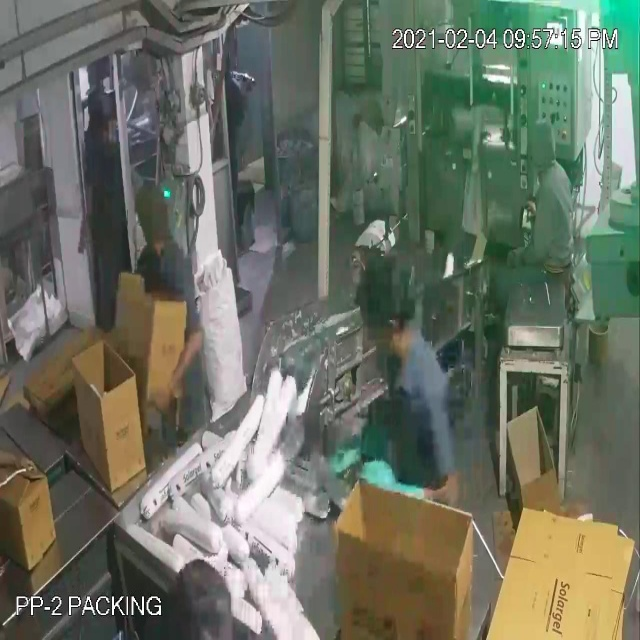Sin_guantes: (142, 308, 210, 409), (68, 171, 99, 255)
